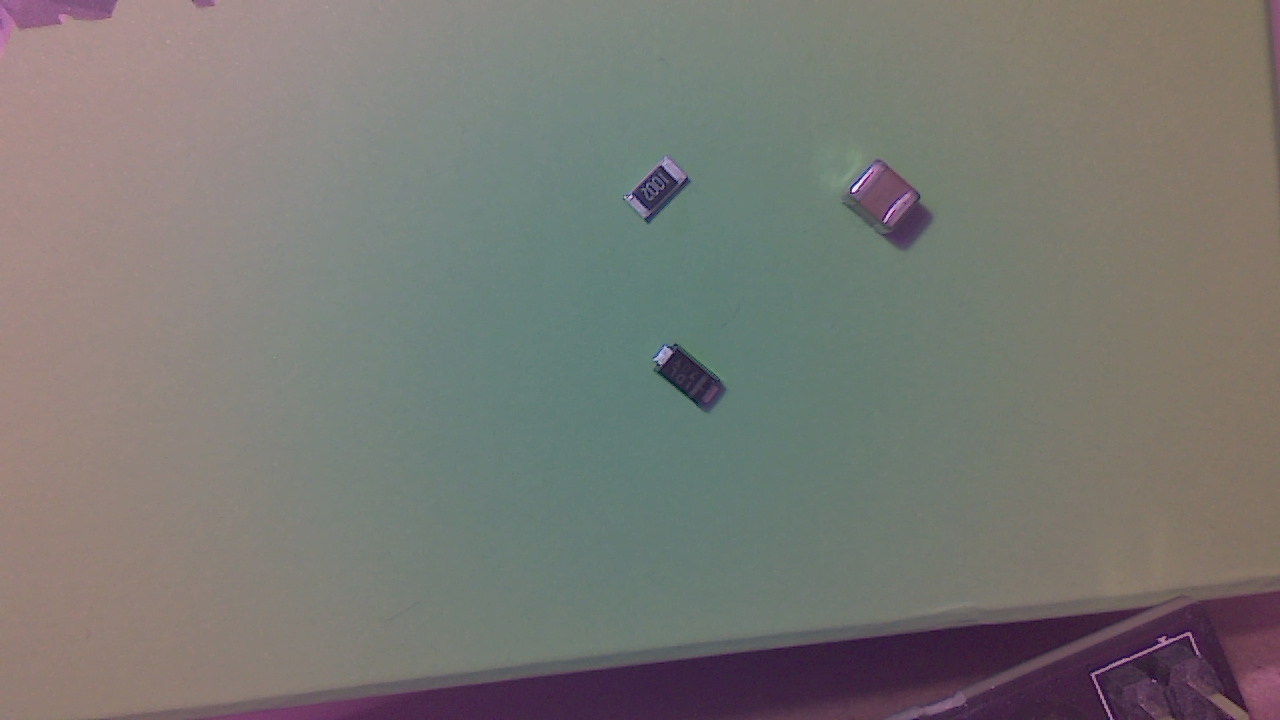Condensator: (843, 166, 927, 239)
Diode: (655, 344, 730, 419)
Resistor: (627, 154, 693, 227)
